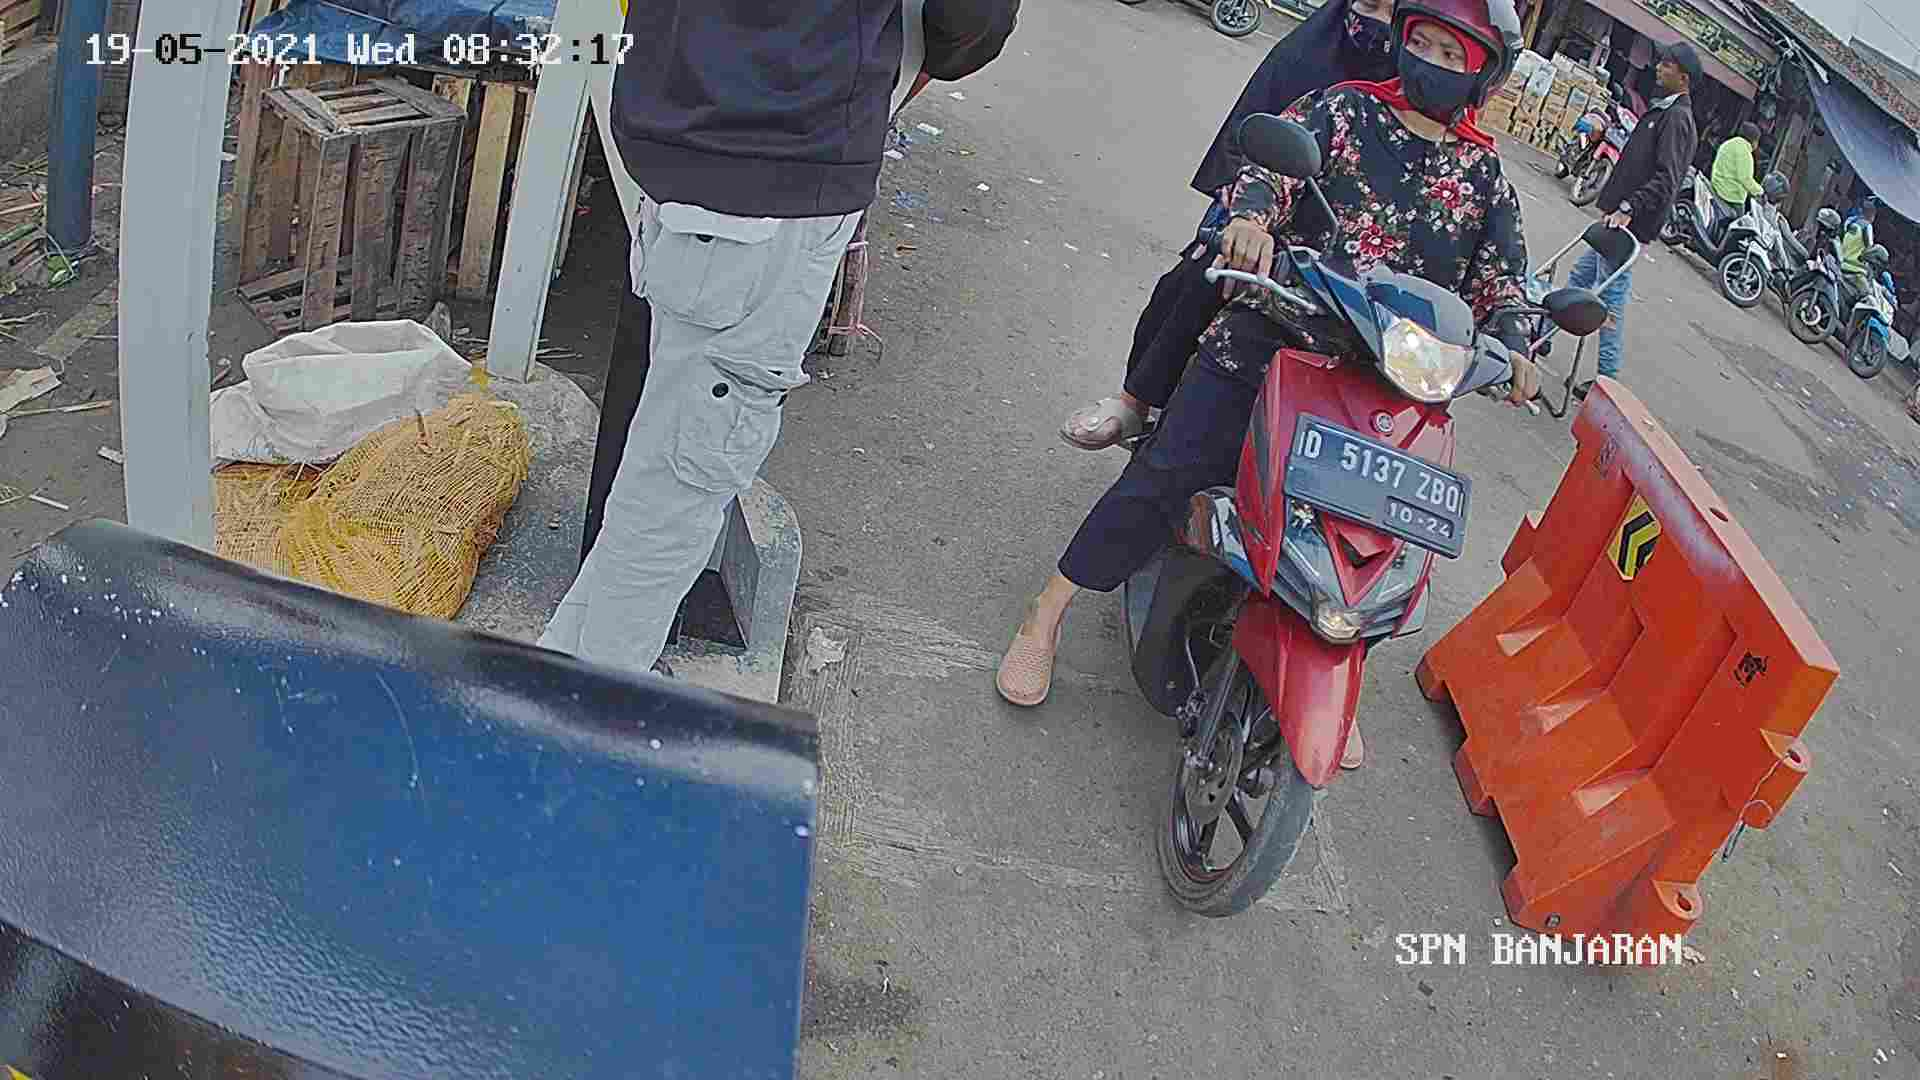motor: (1112, 190, 1485, 956)
